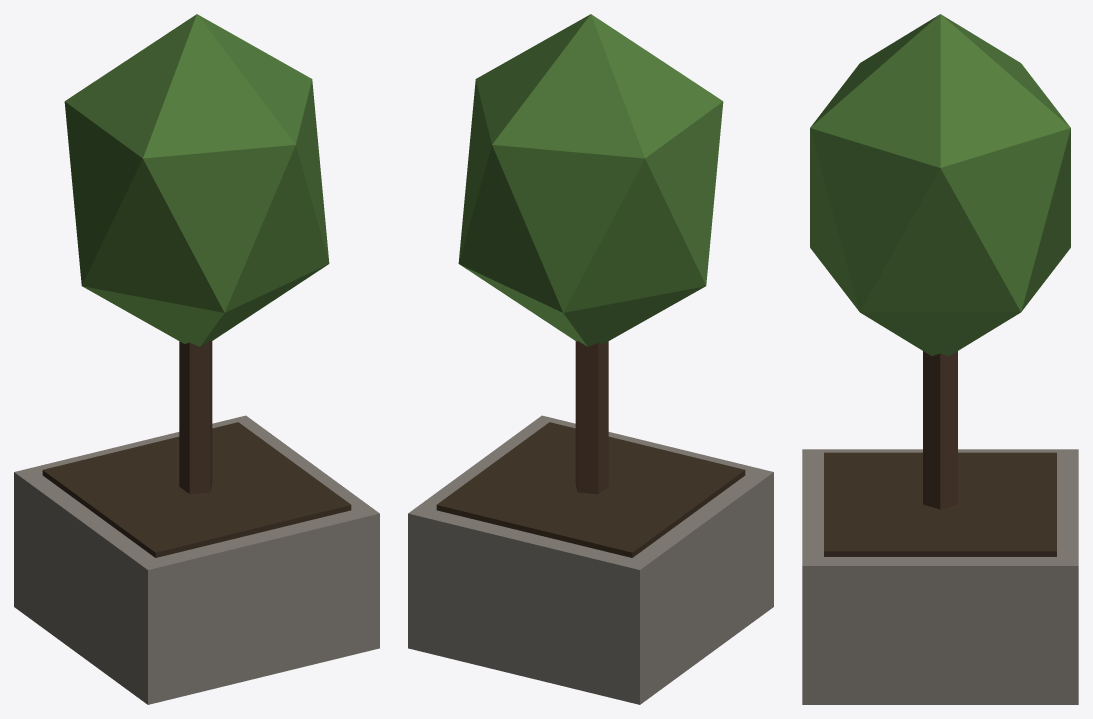
The model's file is tour_bac_arbuste.glb.
3 views of the same model, side by side, from view 1: azimuth 30°, elevation 25°; view 2: azimuth 150°, elevation 25°; view 3: azimuth 270°, elevation 25° (orthographic). The views are drawn at different scales.
Visible parts, largest first — view 1: tour_bac_arbuste; view 2: tour_bac_arbuste; view 3: tour_bac_arbuste.
Boxes of the visible parts, x1,y1,x2,y2 form: tour_bac_arbuste: [14, 14, 379, 704]; tour_bac_arbuste: [408, 14, 773, 704]; tour_bac_arbuste: [802, 14, 1078, 704].
Size of the model in its own units: 0.9 by 2.28 by 0.9.
